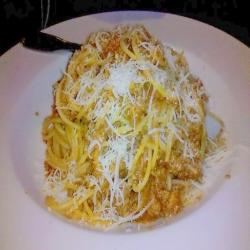bolonese_pasta: (40, 28, 213, 229)
